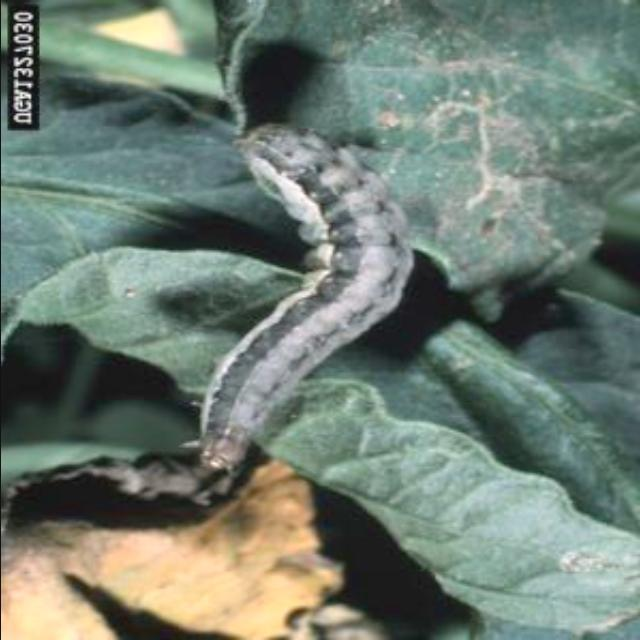Beet armyworm: (119, 110, 489, 516)
